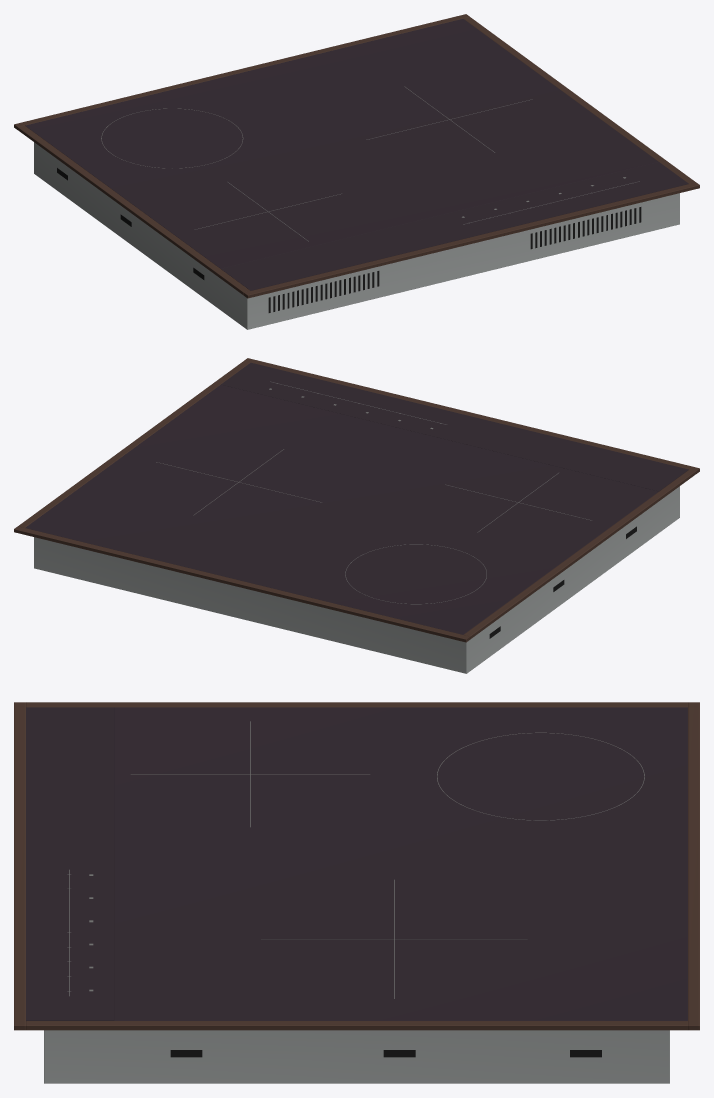
File: BEY3MS-b70-4064fc.glb
3 renders of one model, top to bottom at view 1: azimuth 30°, elevation 25°; view 2: azimuth 150°, elevation 25°; view 3: azimuth 270°, elevation 25°, orthographic. The views are drawn at different scales.
Parts seen in each view (by area): view 1: GlassTop, EmbeddedBody, ControlPanel, TopEdgeFB1, B70_SideSlot_275_20, RadiantCircleEstimate; view 2: GlassTop, EmbeddedBody, ControlPanel, TopEdgeFB1, RadiantCircleEstimate; view 3: GlassTop, EmbeddedBody, ControlPanel, TopEdgeFB1, RadiantCircleEstimate, B70_SideSlot_275_20.
Part boxes in pixels (box(x1,y1,x2,y2)): GlassTop: box(25, 19, 658, 268); EmbeddedBody: box(34, 142, 679, 329); ControlPanel: box(221, 162, 688, 290); TopEdgeFB1: box(14, 14, 699, 298); B70_SideSlot_275_20: box(57, 168, 641, 312); RadiantCircleEstimate: box(101, 86, 639, 241); GlassTop: box(25, 384, 658, 634); EmbeddedBody: box(34, 486, 679, 673); ControlPanel: box(221, 362, 688, 491); TopEdgeFB1: box(14, 358, 699, 642); RadiantCircleEstimate: box(156, 381, 591, 604); GlassTop: box(114, 707, 687, 1020); EmbeddedBody: box(44, 1030, 669, 1083); ControlPanel: box(26, 707, 113, 1020); TopEdgeFB1: box(14, 702, 699, 1030); RadiantCircleEstimate: box(67, 721, 644, 998); B70_SideSlot_275_20: box(170, 1050, 601, 1057).
Size of the model in its own units: 0.575 by 0.054 by 0.515.
